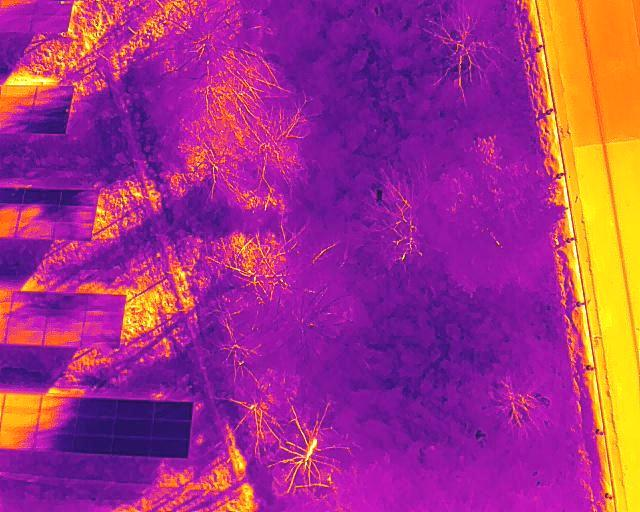No-Anomaly: (2, 393, 40, 413), (0, 413, 37, 429)
Shadowing: (37, 433, 76, 454), (112, 437, 152, 456), (80, 397, 118, 417), (49, 292, 87, 312), (84, 311, 122, 331), (7, 311, 47, 330), (46, 311, 84, 331), (119, 399, 157, 419), (37, 415, 77, 434), (76, 417, 115, 436), (12, 291, 49, 311), (155, 401, 192, 421), (40, 397, 81, 415), (0, 430, 37, 449), (116, 420, 153, 439), (15, 223, 54, 241), (81, 330, 120, 348), (75, 435, 111, 454), (6, 328, 44, 346), (18, 206, 58, 223), (57, 205, 96, 222), (154, 423, 190, 441), (44, 329, 82, 346), (56, 223, 91, 241), (32, 0, 71, 16), (153, 441, 187, 459), (87, 295, 123, 312), (30, 15, 68, 31), (23, 189, 60, 205), (32, 102, 69, 118), (35, 86, 73, 101), (29, 119, 65, 134), (60, 189, 96, 203)
